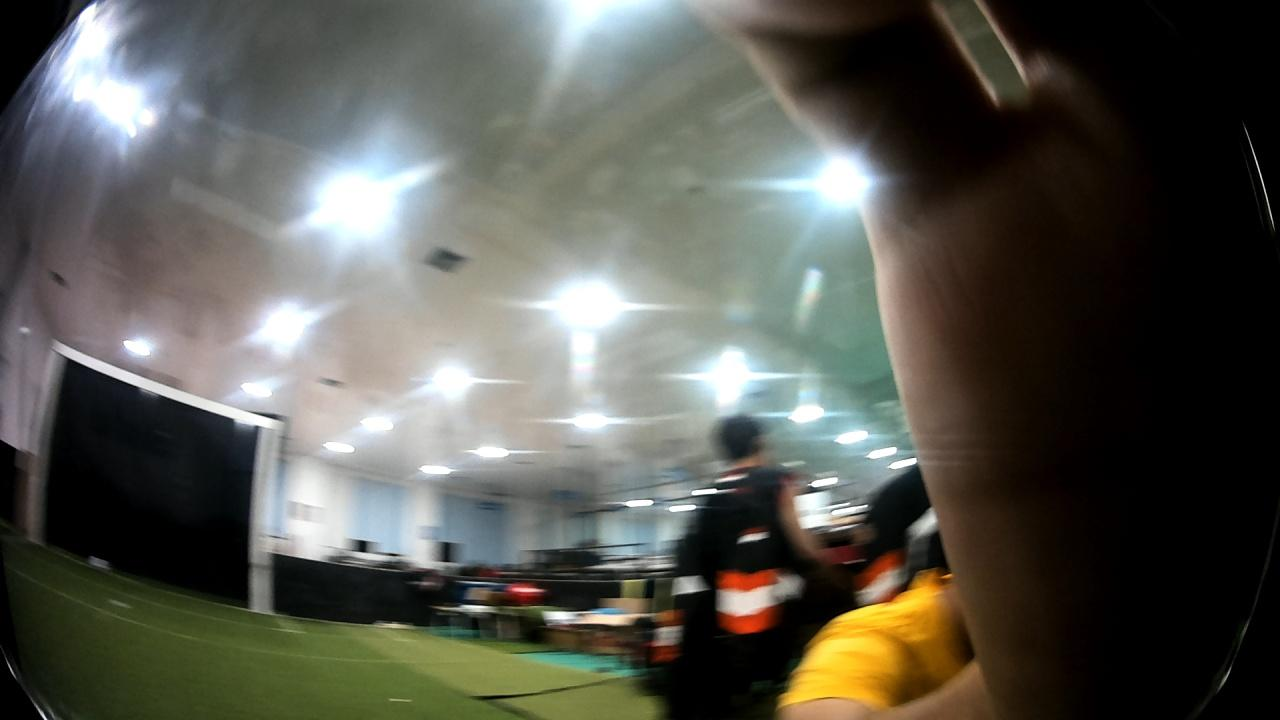ball: (89, 550, 109, 574)
